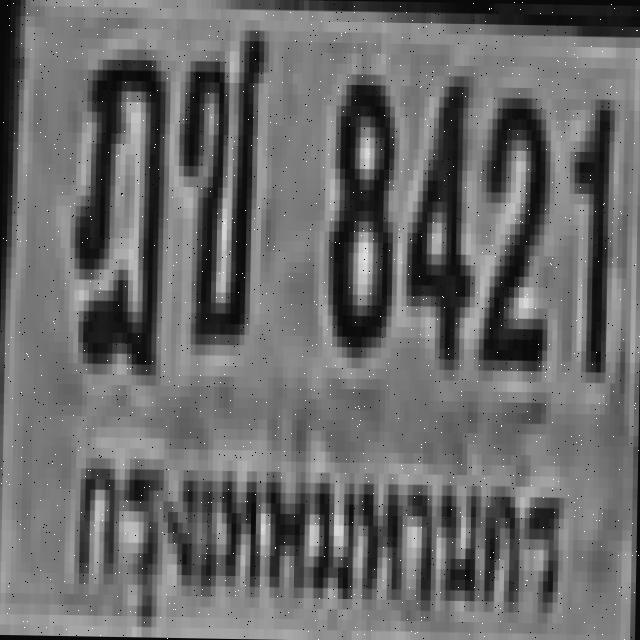1: (566, 93, 610, 367)
19ChorChang: (176, 18, 264, 334)
2: (478, 87, 546, 361)
23DorChaDa: (67, 38, 166, 364)
4: (400, 64, 469, 360)
8: (322, 62, 390, 348)
Bangkok: (52, 434, 568, 632)
